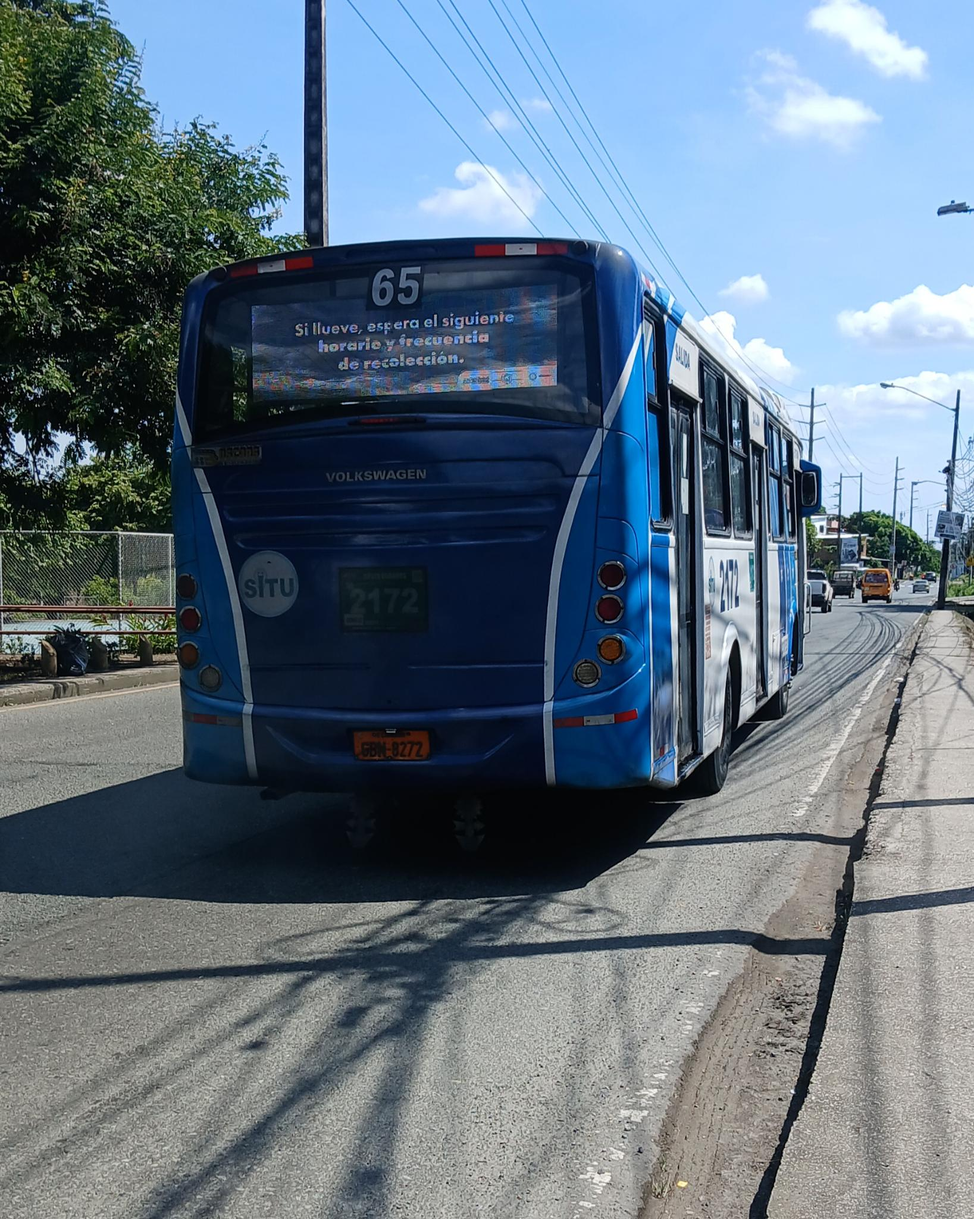license_plate: (351, 728, 432, 761)
